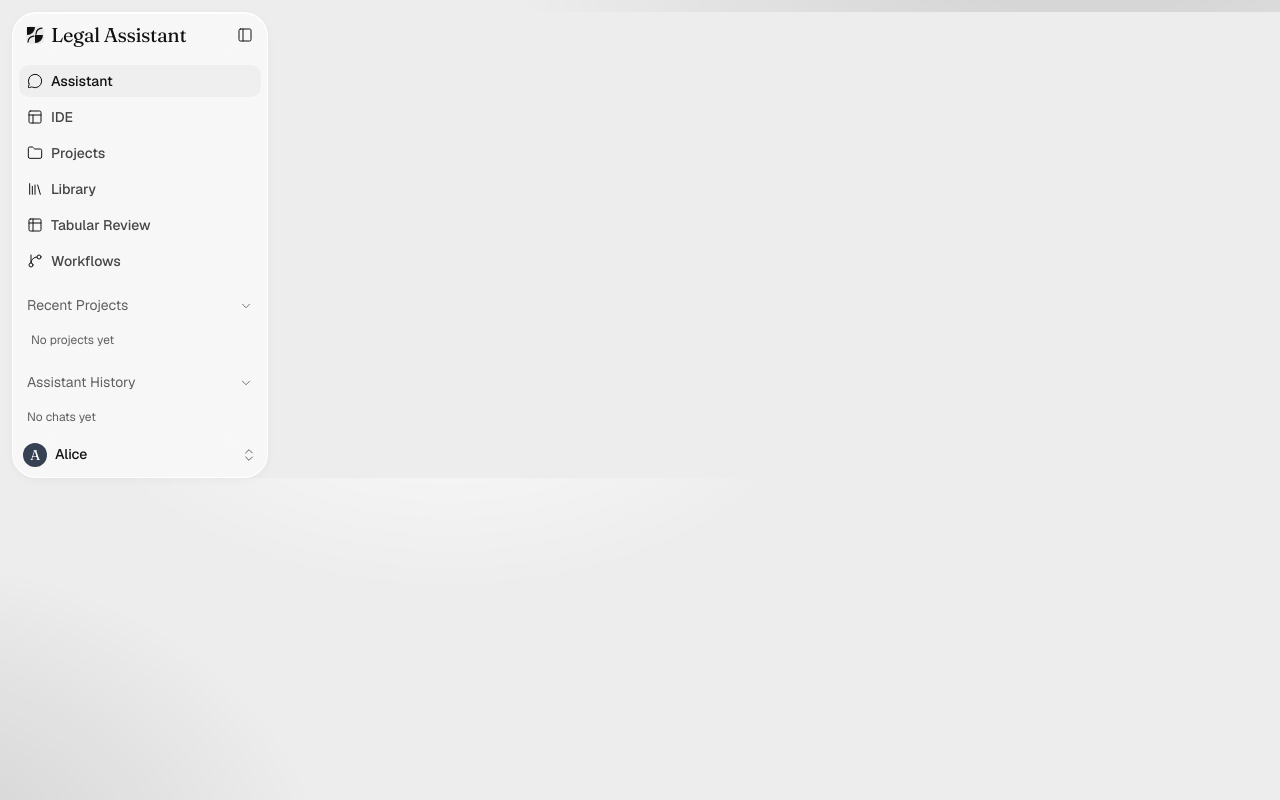
Scenario: AppSidebar account dropdown › keeps memory navigation inside Settings
Click the button "A Alice" at (140, 455), box 17,437 -> 263,473
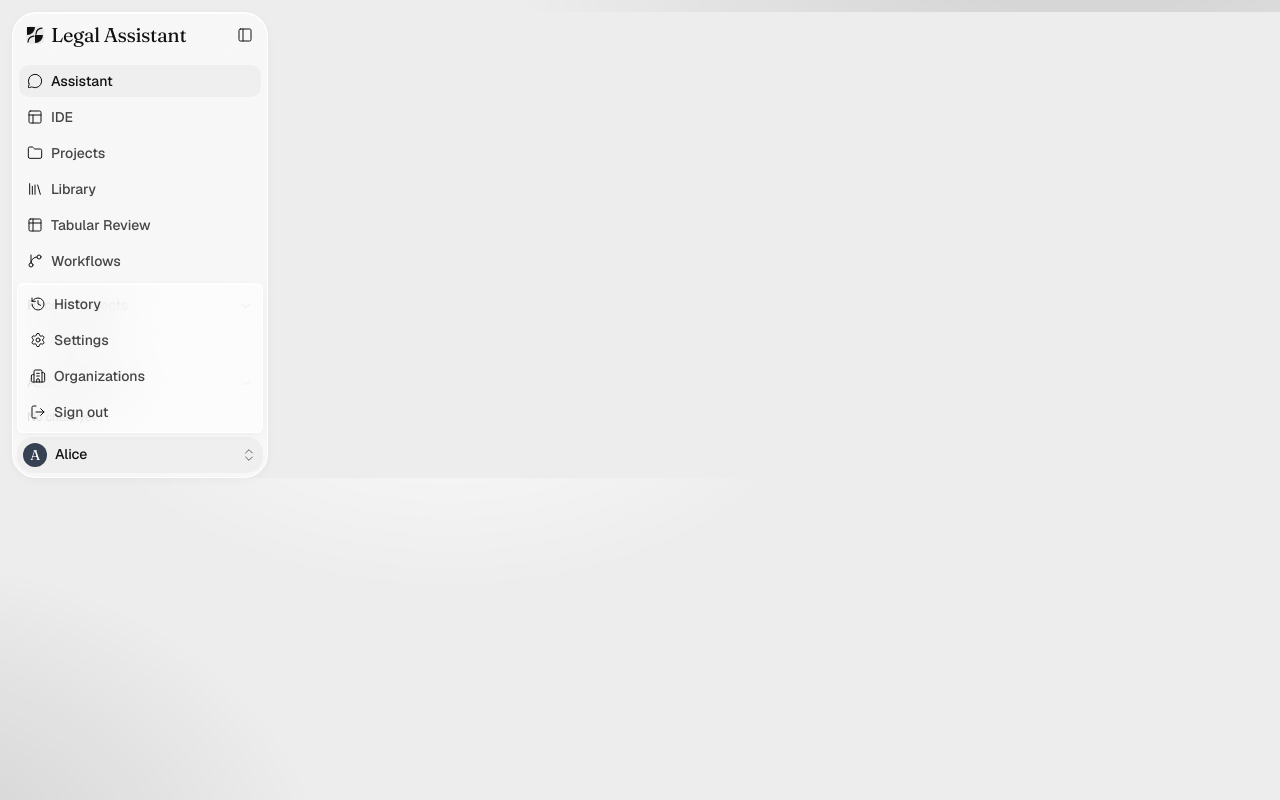
Expected: the menu item "Settings" is shown, 30,331 -> 109,349
